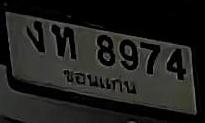number: (23, 19, 192, 83)
province: (60, 67, 138, 99)
